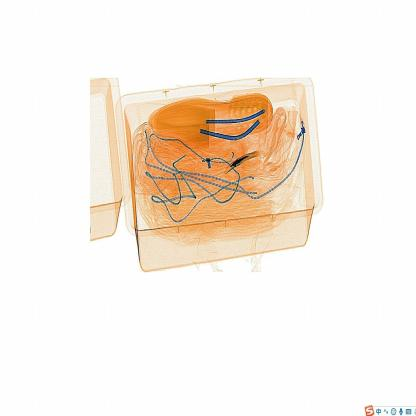wrench: (220, 138, 272, 184)
